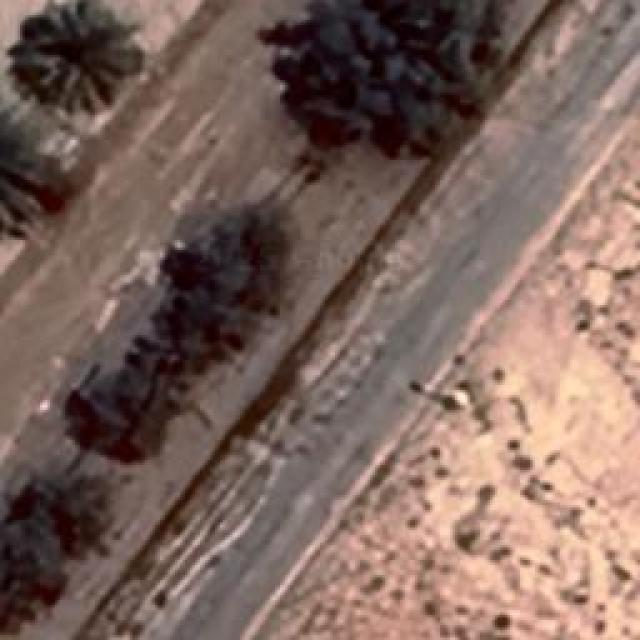PalmTree: (28, 143, 67, 578), (20, 0, 140, 110), (34, 101, 57, 176)
